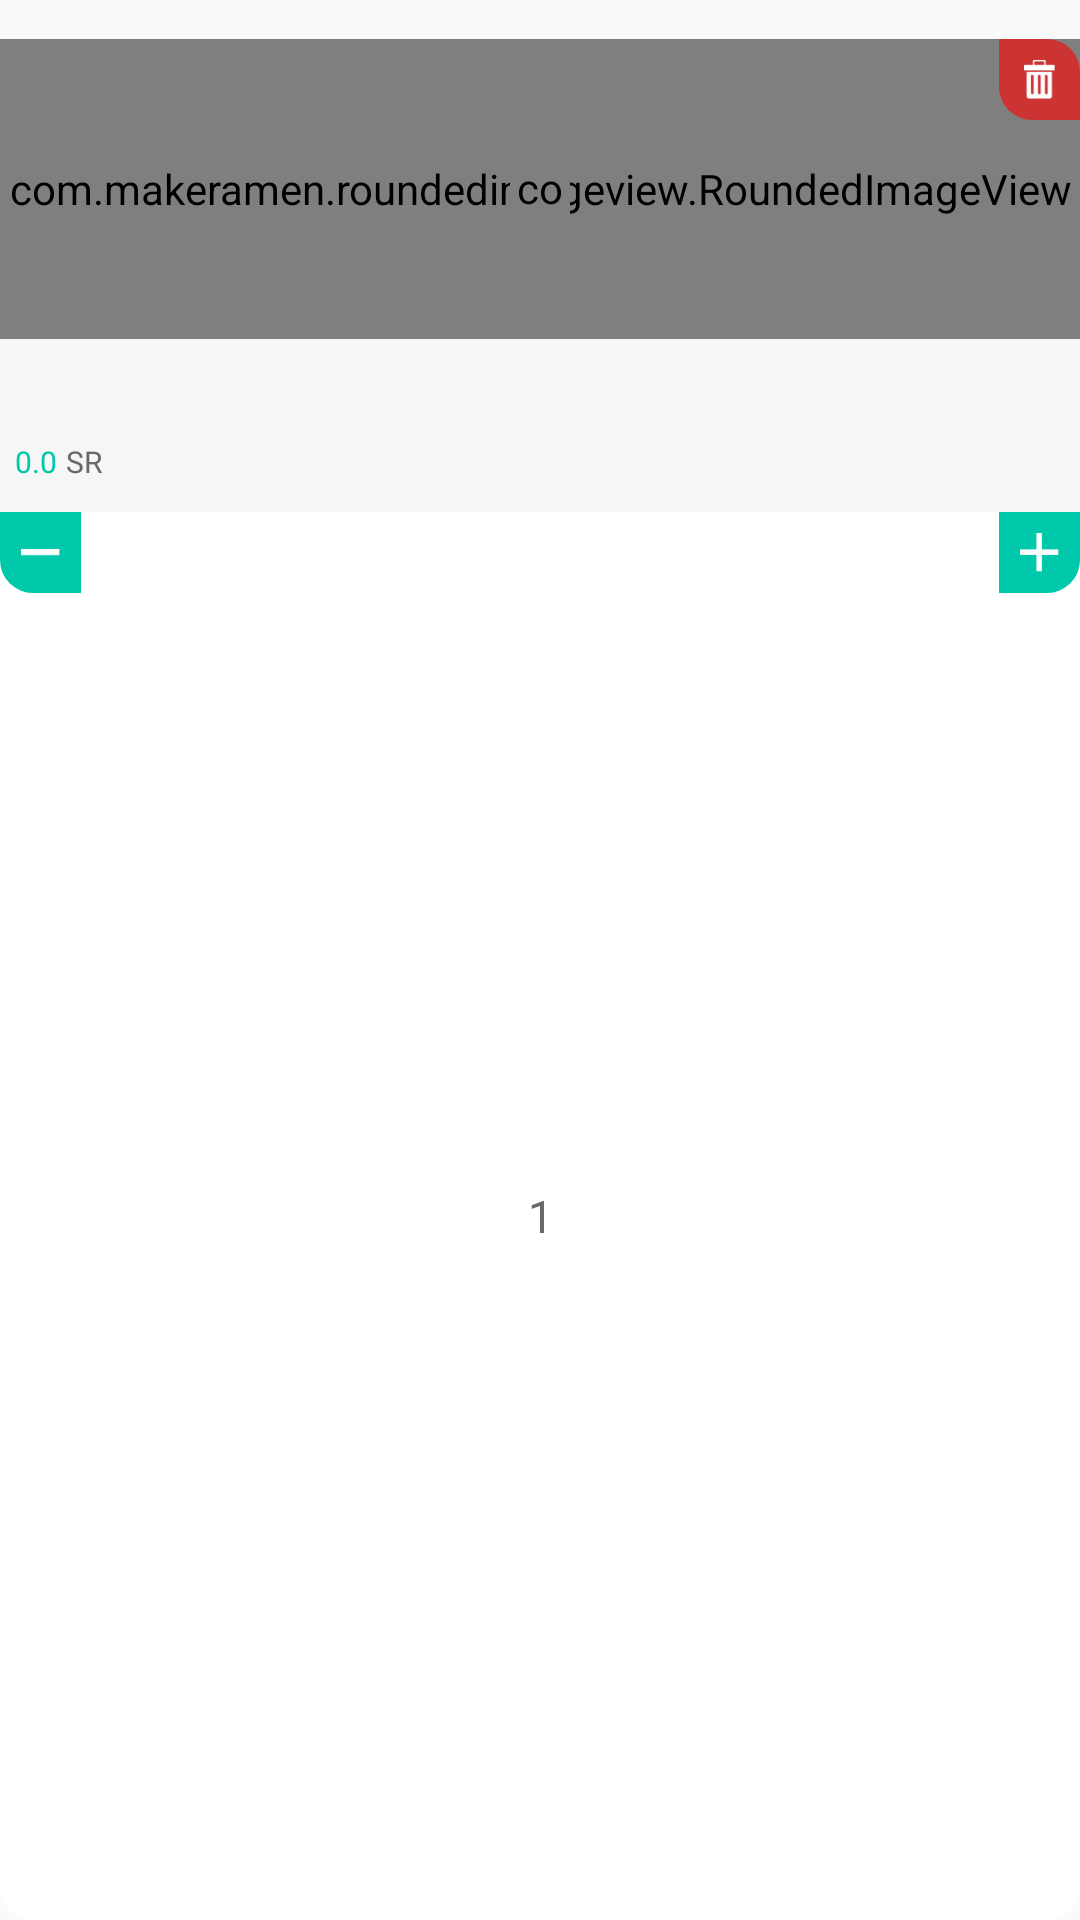

Point at icon controls on the screen. Image size 1080x1920, points as (x,y).
delete: (1039,79)
minus: (40,552)
plus: (1039,552)
